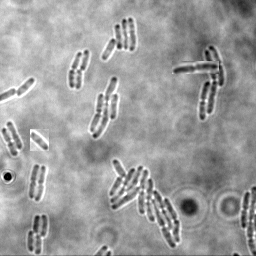Dividing: (172, 61, 219, 74), (67, 52, 81, 89), (1, 128, 18, 157), (34, 166, 47, 202), (28, 164, 39, 200), (239, 192, 249, 229)
Microcolony: (109, 158, 180, 249), (88, 76, 119, 139), (199, 45, 224, 121), (101, 18, 136, 61), (27, 214, 48, 255)
Rod: (5, 121, 23, 150), (30, 129, 49, 151), (16, 78, 34, 99), (79, 50, 89, 72), (73, 69, 82, 90)
